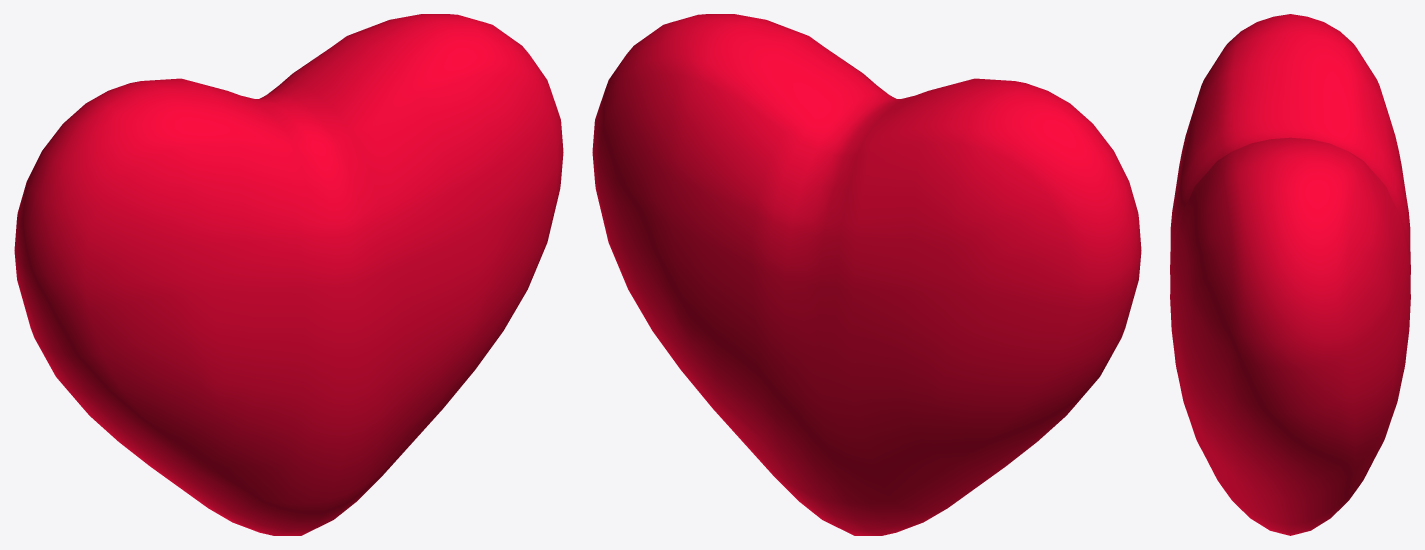
File: emoji_heart_anim.obj
3 views of the same model, side by side, from view 1: azimuth 30°, elevation 25°; view 2: azimuth 150°, elevation 25°; view 3: azimuth 270°, elevation 25° (orthographic). The views are drawn at different scales.
Parts seen in each view (by area): view 1: emoji_heart; view 2: emoji_heart; view 3: emoji_heart.
Part boxes in pixels (box(x1,y1,x2,y2)): emoji_heart: box(14, 14, 563, 535); emoji_heart: box(592, 14, 1141, 535); emoji_heart: box(1170, 14, 1410, 535).
Size of the model in its own units: 1.06 by 0.9159 by 0.4542.
